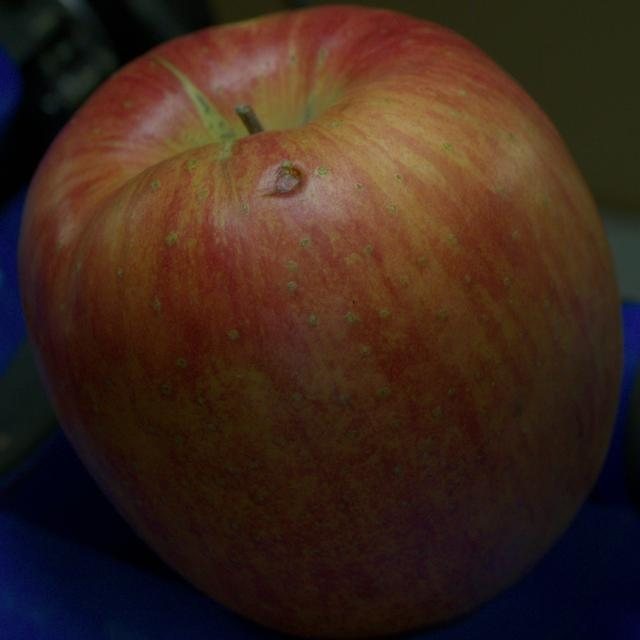apple: (18, 6, 622, 638)
bruise: (263, 161, 302, 195)
